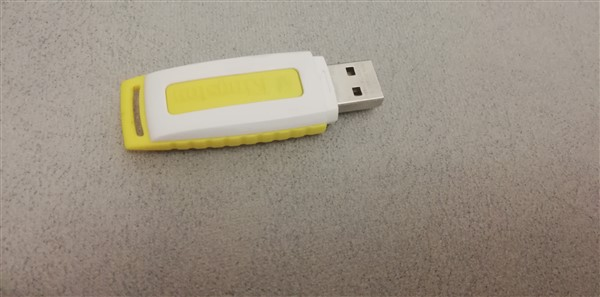flash disk: (107, 50, 398, 154)
